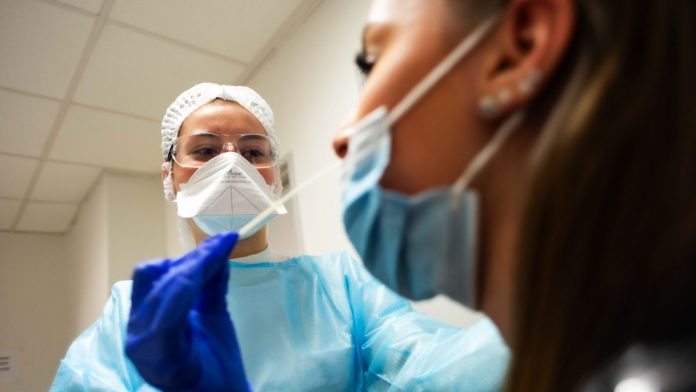Gloves: (119, 227, 255, 392)
Goggles: (174, 130, 280, 170)
mask_weared_incorrect: (328, 16, 485, 320)
with_mask: (174, 110, 277, 251)
